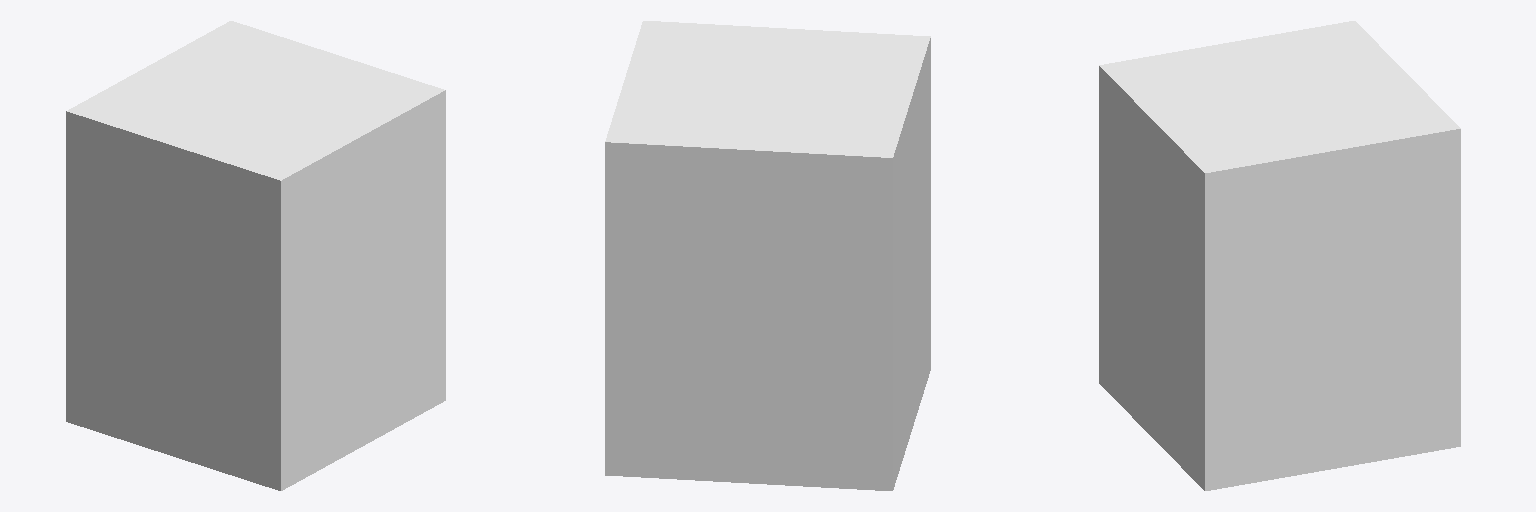
URDF robot description (stretch_description_S2_DexWrist.SLDASM):
<?xml version="1.0" encoding="utf-8"?>
<!-- This URDF was automatically created by SolidWorks to URDF Exporter! Originally created by [author] ([email redacted]) 
     Commit Version: 1.5.1-0-g916b5db  Build Version: 1.5.7152.31018
     For more information, please see http://wiki.ros.org/sw_urdf_exporter -->
<robot
  name="stretch_description_S2_DexWrist.SLDASM">
  <link
    name="link_wrist_yaw">
    <inertial>
      <origin
        xyz="0 -3.9E-05 -0.016495"
        rpy="0 0 0" />
      <mass
        value="0.054422" />
      <inertia
        ixx="9E-06"
        ixy="0"
        ixz="0"
        iyy="9E-06"
        iyz="0"
        izz="7E-06" />
    </inertial>
    <visual>
      <origin
        xyz="0 0 0"
        rpy="0 0 0" />
      <geometry>
        <mesh
          filename="package://stretch_description_S2_DexWrist.SLDASM/meshes/link_wrist_yaw.STL" />
      </geometry>
      <material
        name="">
        <color
          rgba="1 1 1 1" />
      </material>
    </visual>
    <collision>
      <origin
        xyz="0 0 0"
        rpy="0 0 0" />
      <geometry>
        <mesh
          filename="package://stretch_description_S2_DexWrist.SLDASM/meshes/link_wrist_yaw.STL" />
      </geometry>
    </collision>
  </link>
  <link
    name="link_wrist_yaw_bottom">
    <inertial>
      <origin
        xyz="-0.012462 -0.032314 -0.021973"
        rpy="0 0 0" />
      <mass
        value="0.24284" />
      <inertia
        ixx="0.000194"
        ixy="3.4E-05"
        ixz="7E-06"
        iyy="0.000107"
        iyz="2E-05"
        izz="0.000229" />
    </inertial>
    <visual>
      <origin
        xyz="0 0 0"
        rpy="0 0 0" />
      <geometry>
        <mesh
          filename="package://stretch_description_S2_DexWrist.SLDASM/meshes/link_wrist_yaw_bottom.STL" />
      </geometry>
      <material
        name="">
        <color
          rgba="1 1 1 1" />
      </material>
    </visual>
    <collision>
      <origin
        xyz="0 0 0"
        rpy="0 0 0" />
      <geometry>
        <mesh
          filename="package://stretch_description_S2_DexWrist.SLDASM/meshes/link_wrist_yaw_bottom.STL" />
      </geometry>
    </collision>
  </link>
  <joint
    name="joint_wrist_yaw_bottom"
    type="fixed">
    <origin
      xyz="0 0 0"
      rpy="3.141592654 0 1.570796327" />
    <parent
      link="link_wrist_yaw" />
    <child
      link="link_wrist_yaw_bottom" />
    <axis
      xyz="0 0 0" />
  </joint>
  <link
    name="link_wrist_pitch">
    <inertial>
      <origin
        xyz="-0.006752 -0.01567 0.021672"
        rpy="0 0 0" />
      <mass
        value="0.208129" />
      <inertia
        ixx="8.5E-05"
        ixy="1.6E-05"
        ixz="5E-06"
        iyy="8.4E-05"
        iyz="4E-06"
        izz="0.000105" />
    </inertial>
    <visual>
      <origin
        xyz="0 0 0"
        rpy="0 0 0" />
      <geometry>
        <mesh
          filename="package://stretch_description_S2_DexWrist.SLDASM/meshes/link_wrist_pitch.STL" />
      </geometry>
      <material
        name="">
        <color
          rgba="1 1 1 1" />
      </material>
    </visual>
    <collision>
      <origin
        xyz="0 0 0"
        rpy="0 0 0" />
      <geometry>
        <mesh
          filename="package://stretch_description_S2_DexWrist.SLDASM/meshes/link_wrist_pitch.STL" />
      </geometry>
    </collision>
  </link>
  <joint
    name="joint_wrist_pitch"
    type="revolute">
    <origin
      xyz="0 0.01955 -0.02475"
      rpy="1.570796327 0 0" />
    <parent
      link="link_wrist_yaw_bottom" />
    <child
      link="link_wrist_pitch" />
    <axis
      xyz="0 0 1" />
    <limit
      lower="0"
      upper="0"
      effort="0"
      velocity="0" />
  </joint>
  <link
    name="link_wrist_roll">
    <inertial>
      <origin
        xyz="6E-05 -3.1E-05 0.006242"
        rpy="0 0 0" />
      <mass
        value="0.01528" />
      <inertia
        ixx="1E-06"
        ixy="0"
        ixz="0"
        iyy="9.5E-07"
        iyz="0"
        izz="1.39E-06" />
    </inertial>
    <visual>
      <origin
        xyz="0 0 0"
        rpy="0 0 0" />
      <geometry>
        <mesh
          filename="package://stretch_description_S2_DexWrist.SLDASM/meshes/link_wrist_roll.STL" />
      </geometry>
      <material
        name="">
        <color
          rgba="1 1 1 1" />
      </material>
    </visual>
    <collision>
      <origin
        xyz="0 0 0"
        rpy="0 0 0" />
      <geometry>
        <mesh
          filename="package://stretch_description_S2_DexWrist.SLDASM/meshes/link_wrist_roll.STL" />
      </geometry>
    </collision>
  </link>
  <joint
    name="joint_wrist_roll"
    type="revolute">
    <origin
      xyz="-0.01885874441 -0.024 0.01955"
      rpy="3.141592654 1.570796327 0" />
    <parent
      link="link_wrist_pitch" />
    <child
      link="link_wrist_roll" />
    <axis
      xyz="0 0 1" />
    <limit
      lower="0"
      upper="0"
      effort="0"
      velocity="0" />
  </joint>
  <link
    name="link_straight_gripper">
    <inertial>
      <origin
        xyz="0.002409 -0.011138 0.028861"
        rpy="0 0 0" />
      <mass
        value="0.147853" />
      <inertia
        ixx="9.5E-07"
        ixy="-4E-06"
        ixz="-1E-06"
        iyy="0.000119"
        iyz="6E-06"
        izz="5.9E-05" />
    </inertial>
    <visual>
      <origin
        xyz="0 0 0"
        rpy="0 0 0" />
      <geometry>
        <mesh
          filename="package://stretch_description_S2_DexWrist.SLDASM/meshes/link_straight_gripper.STL" />
      </geometry>
      <material
        name="">
        <color
          rgba="1 1 1 1" />
      </material>
    </visual>
    <collision>
      <origin
        xyz="0 0 0"
        rpy="0 0 0" />
      <geometry>
        <mesh
          filename="package://stretch_description_S2_DexWrist.SLDASM/meshes/link_straight_gripper.STL" />
      </geometry>
    </collision>
  </link>
  <joint
    name="joint_straight_gripper"
    type="fixed">
    <origin
      xyz="0 0 0.0155"
      rpy="0 0 -3.141592654" />
    <parent
      link="link_wrist_roll" />
    <child
      link="link_straight_gripper" />
    <axis
      xyz="0 0 0" />
  </joint>
  <link
    name="link_gripper_finger_right">
    <inertial>
      <origin
        xyz="-0.093921 -0.011351 0"
        rpy="0 0 0" />
      <mass
        value="0.06" />
      <inertia
        ixx="1.1E-05"
        ixy="3.6E-05"
        ixz="0"
        iyy="0.000213"
        iyz="0"
        izz="0.000223" />
    </inertial>
    <visual>
      <origin
        xyz="0 0 0"
        rpy="0 0 0" />
      <geometry>
        <mesh
          filename="package://stretch_description_S2_DexWrist.SLDASM/meshes/link_gripper_finger_right.STL" />
      </geometry>
      <material
        name="">
        <color
          rgba="1 1 1 1" />
      </material>
    </visual>
    <collision>
      <origin
        xyz="0 0 0"
        rpy="0 0 0" />
      <geometry>
        <mesh
          filename="package://stretch_description_S2_DexWrist.SLDASM/meshes/link_gripper_finger_right.STL" />
      </geometry>
    </collision>
  </link>
  <joint
    name="joint_gripper_finger_right"
    type="revolute">
    <origin
      xyz="-0.01859924143 0.003 0.03368889599"
      rpy="1.570796327 1.570796327 0" />
    <parent
      link="link_straight_gripper" />
    <child
      link="link_gripper_finger_right" />
    <axis
      xyz="0 0 1" />
    <limit
      lower="0"
      upper="0"
      effort="0"
      velocity="0" />
  </joint>
  <link
    name="link_gripper_fingertip_right">
    <inertial>
      <origin
        xyz="0 0 0.008126"
        rpy="0 0 0" />
      <mass
        value="0.003822" />
      <inertia
        ixx="0"
        ixy="0"
        ixz="0"
        iyy="0"
        iyz="0"
        izz="1E-06" />
    </inertial>
    <visual>
      <origin
        xyz="0 0 0"
        rpy="0 0 0" />
      <geometry>
        <mesh
          filename="package://stretch_description_S2_DexWrist.SLDASM/meshes/link_gripper_fingertip_right.STL" />
      </geometry>
      <material
        name="">
        <color
          rgba="1 1 1 1" />
      </material>
    </visual>
    <collision>
      <origin
        xyz="0 0 0"
        rpy="0 0 0" />
      <geometry>
        <mesh
          filename="package://stretch_description_S2_DexWrist.SLDASM/meshes/link_gripper_fingertip_right.STL" />
      </geometry>
    </collision>
  </link>
  <joint
    name="joint_gripper_fingertip_right"
    type="fixed">
    <origin
      xyz="-0.1905969486 -0.006042004918 0"
      rpy="-1.570796327 0 0.5404560564" />
    <parent
      link="link_gripper_finger_right" />
    <child
      link="link_gripper_fingertip_right" />
    <axis
      xyz="0 0 0" />
  </joint>
  <link
    name="link_gripper_finger_left">
    <inertial>
      <origin
        xyz="0.094071 0.011377 0"
        rpy="0 0 0" />
      <mass
        value="0.06" />
      <inertia
        ixx="1.1E-05"
        ixy="3.6E-05"
        ixz="0"
        iyy="0.000214"
        iyz="0"
        izz="0.000224" />
    </inertial>
    <visual>
      <origin
        xyz="0 0 0"
        rpy="0 0 0" />
      <geometry>
        <mesh
          filename="package://stretch_description_S2_DexWrist.SLDASM/meshes/link_gripper_finger_left.STL" />
      </geometry>
      <material
        name="">
        <color
          rgba="1 1 1 1" />
      </material>
    </visual>
    <collision>
      <origin
        xyz="0 0 0"
        rpy="0 0 0" />
      <geometry>
        <mesh
          filename="package://stretch_description_S2_DexWrist.SLDASM/meshes/link_gripper_finger_left.STL" />
      </geometry>
    </collision>
  </link>
  <joint
    name="joint_gripper_finger_left"
    type="revolute">
    <origin
      xyz="0.01859924143 0.003 0.03368889599"
      rpy="1.570796327 -1.570796327 0" />
    <parent
      link="link_straight_gripper" />
    <child
      link="link_gripper_finger_left" />
    <axis
      xyz="0 0 1" />
    <limit
      lower="0"
      upper="0"
      effort="0"
      velocity="0" />
  </joint>
  <link
    name="link_gripper_fingertip_left">
    <inertial>
      <origin
        xyz="0 0 0.008126"
        rpy="0 0 0" />
      <mass
        value="0.003822" />
      <inertia
        ixx="0"
        ixy="0"
        ixz="0"
        iyy="0"
        iyz="0"
        izz="1E-06" />
    </inertial>
    <visual>
      <origin
        xyz="0 0 0"
        rpy="0 0 0" />
      <geometry>
        <mesh
          filename="package://stretch_description_S2_DexWrist.SLDASM/meshes/link_gripper_fingertip_left.STL" />
      </geometry>
      <material
        name="">
        <color
          rgba="1 1 1 1" />
      </material>
    </visual>
    <collision>
      <origin
        xyz="0 0 0"
        rpy="0 0 0" />
      <geometry>
        <mesh
          filename="package://stretch_description_S2_DexWrist.SLDASM/meshes/link_gripper_fingertip_left.STL" />
      </geometry>
    </collision>
  </link>
  <joint
    name="joint_gripper_fingertip_left"
    type="fixed">
    <origin
      xyz="0.1905969486 -0.006042004918 0"
      rpy="1.570796327 0 2.601136597" />
    <parent
      link="link_gripper_finger_left" />
    <child
      link="link_gripper_fingertip_left" />
    <axis
      xyz="0 0 0" />
  </joint>
</robot>

--- What the picture shows (computed from the rendered views, not written in the file) ---
3 views of the same robot in one strip: view 1: azimuth 30°, elevation 25°; view 2: azimuth 150°, elevation 25°; view 3: azimuth 270°, elevation 25° (orthographic).
Robot: stretch_description_S2_DexWrist.SLDASM — 9 links, 8 joints (4 revolute, 4 fixed); root link link_wrist_yaw; default pose: all joints at 0.
Visible links, largest first — view 1: link_wrist_yaw; view 2: link_wrist_yaw; view 3: link_wrist_yaw.
Boxes of the visible links, x1,y1,x2,y2 form: link_wrist_yaw: [66, 21, 445, 490]; link_wrist_yaw: [605, 21, 930, 490]; link_wrist_yaw: [1099, 21, 1460, 490].
Bounding box of the posed robot: 0.0392 × 0.0392 × 0.038 m (x, y, z).
Meshes: 9 distinct files referenced, 1 mesh visuals loaded (1 binary STL); not drawn: 8 (reference not matched to a file when rendering).